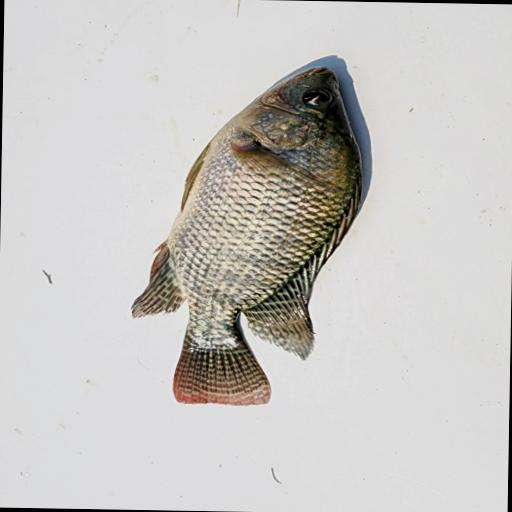Tilapia: (130, 64, 366, 409)
